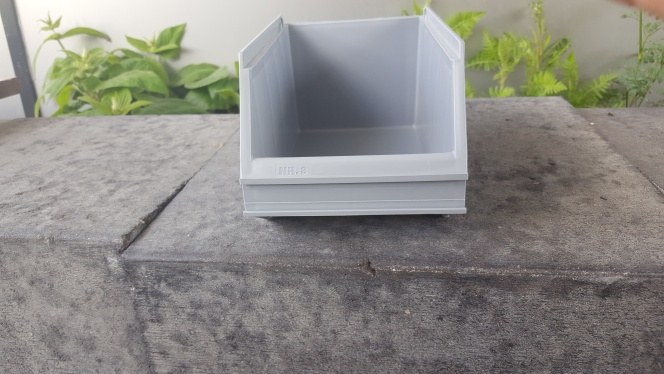tray_front: (239, 47, 471, 218)
